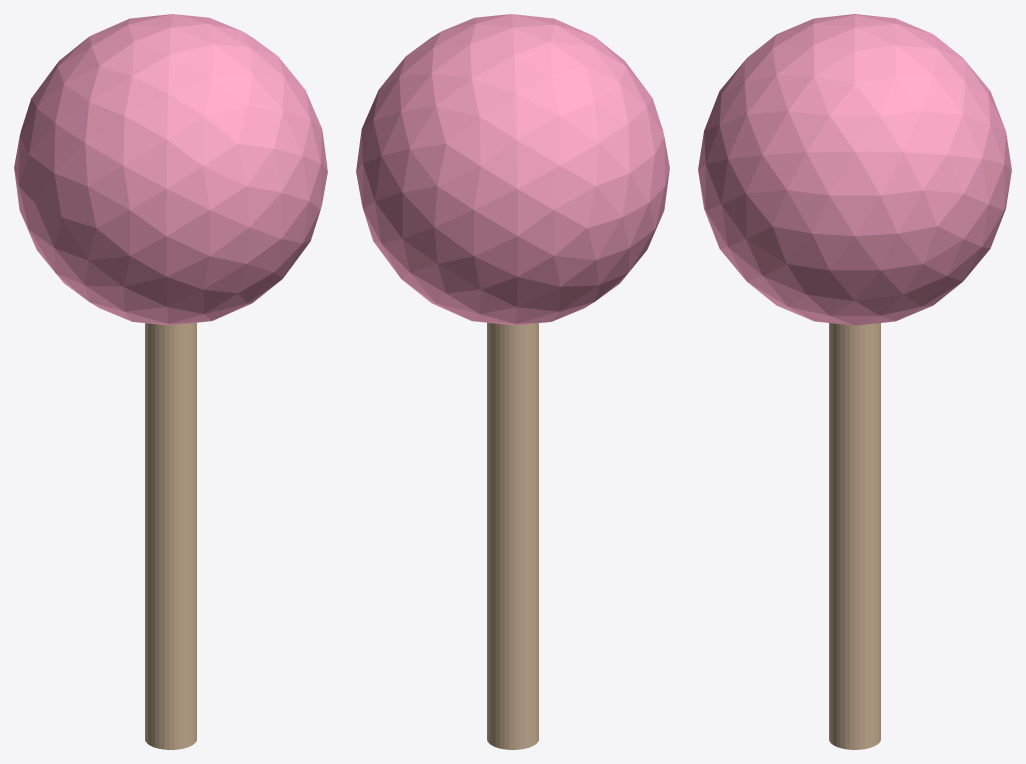
Rendered from lollipop.glb.
3 renders of one model, left to right at view 1: azimuth 30°, elevation 25°; view 2: azimuth 150°, elevation 25°; view 3: azimuth 270°, elevation 25°, orthographic.
Visible parts, largest first — view 1: world; view 2: world; view 3: world.
Boxes of the visible parts, box(x1,y1,x2,y2) form: world: box(14, 14, 327, 749); world: box(356, 14, 669, 749); world: box(698, 14, 1011, 749).
Size of the model in its own units: 0.6 by 1.5 by 0.6.
